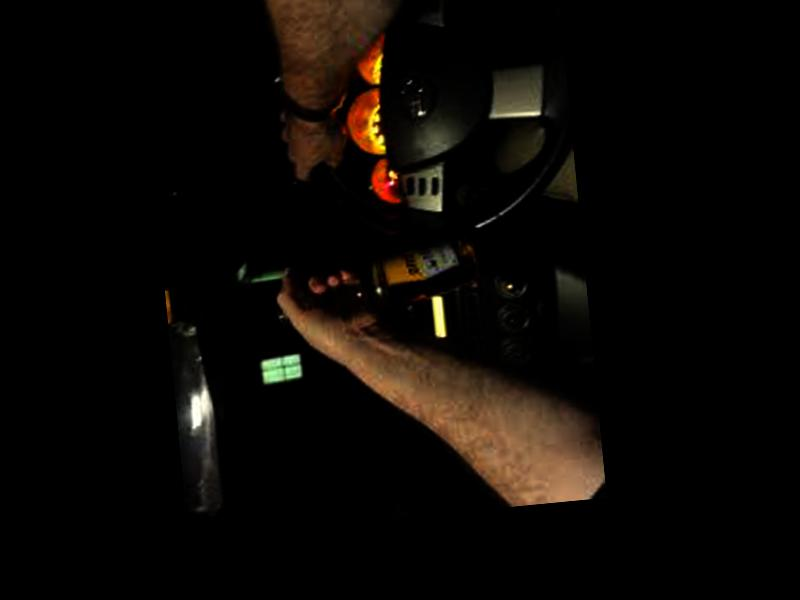Beer: (272, 228, 480, 327)
